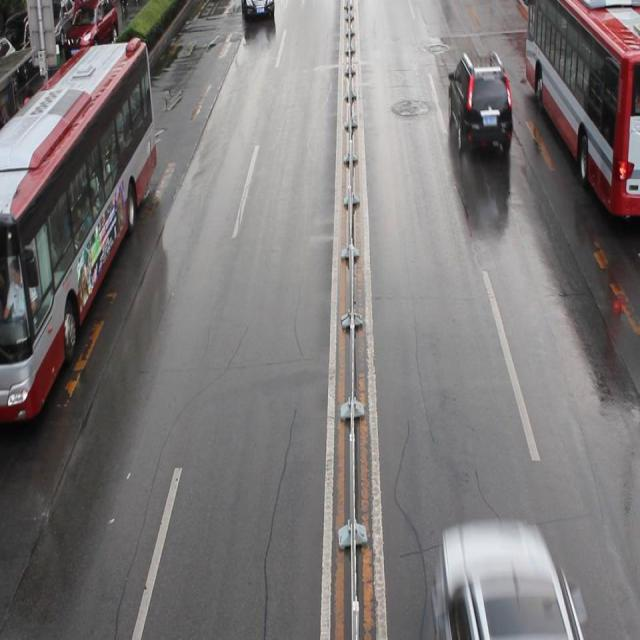car: (448, 52, 513, 154), (67, 1, 118, 54)
van: (1, 39, 156, 413), (524, 2, 640, 214)
